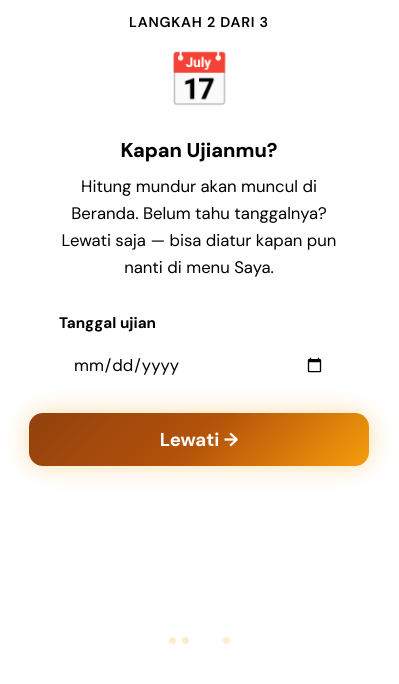
Onboarding — exam-date step (item 24) › skipping the exam-date step (no date entered) still proceeds to Goal
Expected: the heading "Kapan Ujianmu?" is shown, [120, 135, 278, 165]
Step 1. Click the button "Lewati →" → x=199, y=440, box [29, 413, 369, 466]
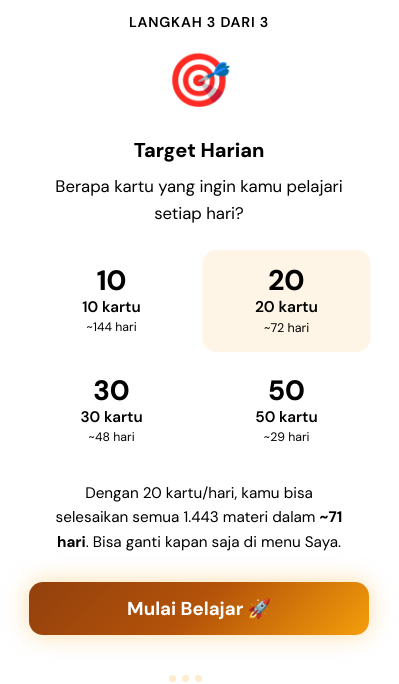
Now the heading "Target Harian" is shown, box [134, 135, 264, 165]
